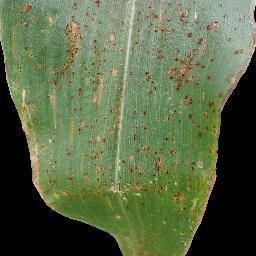Corn_Common_Rust: (120, 0, 256, 256), (0, 0, 120, 247)
